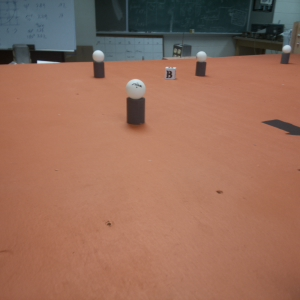blockB: (165, 66, 177, 81)
obstacle: (124, 77, 150, 126), (91, 49, 108, 78), (195, 50, 208, 77), (281, 45, 292, 62)
start: (262, 119, 300, 138), (292, 21, 300, 44)
